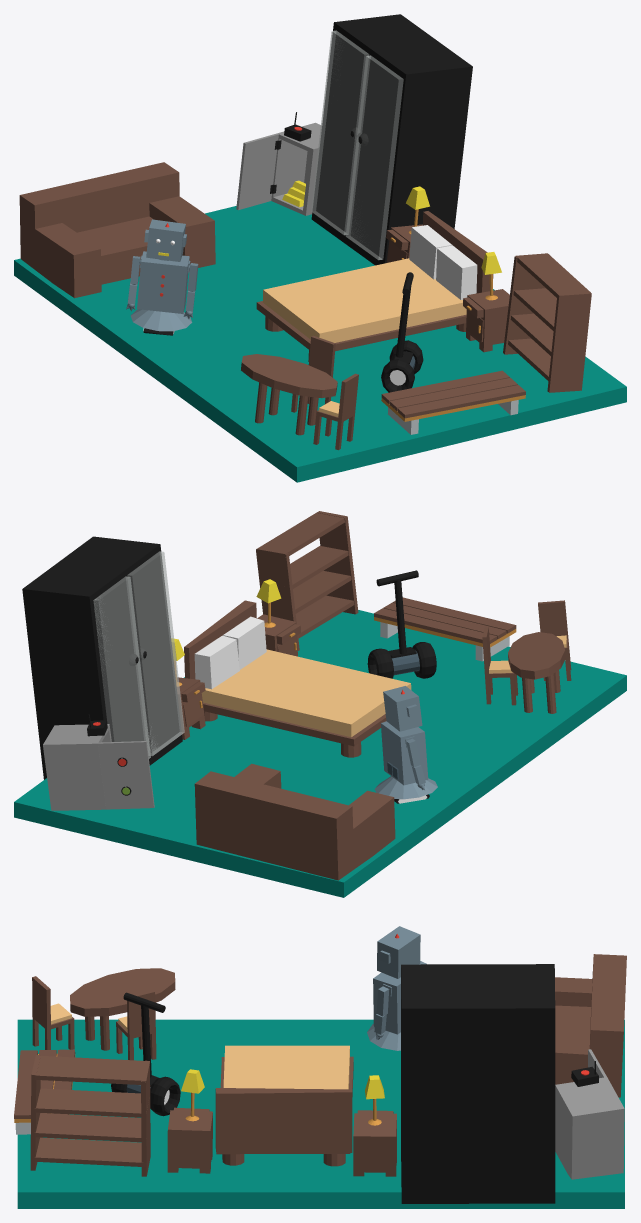
Rendered from scene_D7GY5gtlVt.glb.
3 renders of one model, top to bottom at view 1: azimuth 30°, elevation 25°; view 2: azimuth 150°, elevation 25°; view 3: azimuth 270°, elevation 25°, orthographic. The views are drawn at different scales.
Visible parts, largest first — view 1: group1219946924, group1681254403, group1734835830, group2086888934, group728642420, group1783475997, group387935749, group731578735, group1776080434, group1333927642, group1560385655, group201065294 (+6 smaller); view 2: group1219946924, group1681254403, group1734835830, group2086888934, group728642420, group387935749, group1783475997, group731578735, group1776080434, group1560385655, group957728260, group201065294 (+5 smaller); view 3: group1219946924, group1681254403, group728642420, group1212144272, group1734835830, group387935749, group2086888934, group1776080434, group1783475997, group1333927642, group302601219, group1560385655 (+4 smaller).
Part boxes in pixels (x1,y1,x2,y2): group1219946924: [14, 201, 626, 482]; group1681254403: [311, 14, 472, 265]; group1734835830: [19, 162, 215, 298]; group2086888934: [262, 258, 466, 342]; group728642420: [503, 253, 591, 392]; group1783475997: [126, 219, 198, 335]; group387935749: [236, 122, 321, 215]; group731578735: [381, 370, 525, 434]; group1776080434: [241, 354, 337, 435]; group1333927642: [463, 252, 509, 352]; group1560385655: [381, 272, 423, 392]; group201065294: [256, 301, 466, 351]; group1219946924: [14, 610, 626, 897]; group1681254403: [22, 536, 184, 779]; group1734835830: [194, 763, 395, 880]; group2086888934: [201, 649, 411, 737]; group728642420: [256, 511, 358, 650]; group387935749: [43, 724, 154, 810]; group1783475997: [374, 686, 437, 803]; group731578735: [374, 597, 516, 661]; group1776080434: [508, 632, 565, 713]; group1560385655: [367, 570, 436, 678]; group957728260: [194, 635, 239, 689]; group201065294: [203, 702, 386, 746]; group1219946924: [17, 1019, 624, 1208]; group1681254403: [401, 964, 555, 1203]; group728642420: [30, 1055, 150, 1176]; group1212144272: [215, 1088, 352, 1154]; group1734835830: [555, 954, 626, 1097]; group387935749: [555, 1049, 624, 1179]; group2086888934: [223, 1045, 349, 1089]; group1776080434: [70, 968, 175, 1050]; group1783475997: [367, 926, 426, 1050]; group1333927642: [167, 1069, 212, 1173]; group302601219: [353, 1075, 396, 1176]; group1560385655: [111, 992, 180, 1116].
Bounding box in the file's own units: 2.3 × 1.28 × 3.21.
